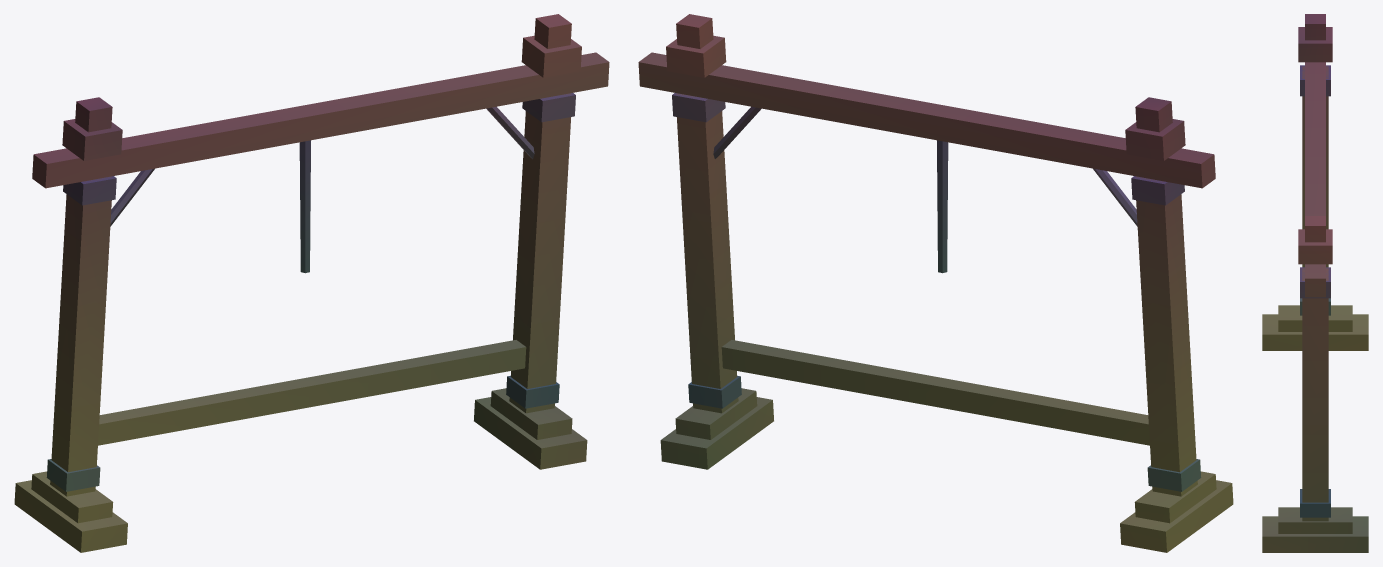
File: perch_rail_bare.glb
The picture shows the model from 3 angles, left to right: view 1: azimuth 30°, elevation 25°; view 2: azimuth 150°, elevation 25°; view 3: azimuth 270°, elevation 25°; orthographic projection. The views are drawn at different scales.
Parts seen in each view (by area): view 1: perch_b, perch_b_iron, perch_chain; view 2: perch_b, perch_b_iron, perch_chain; view 3: perch_b, perch_b_iron.
Boxes of the visible parts, x1,y1,x2,y2 form: perch_b: (14, 14, 609, 552); perch_b_iron: (46, 93, 575, 491); perch_chain: (299, 140, 310, 273); perch_b: (638, 14, 1233, 552); perch_b_iron: (672, 93, 1201, 491); perch_chain: (937, 140, 948, 273); perch_b: (1262, 14, 1368, 552); perch_b_iron: (1300, 65, 1330, 517).
Bounding box in the file's own units: 1.96 × 1.48 × 0.4.
